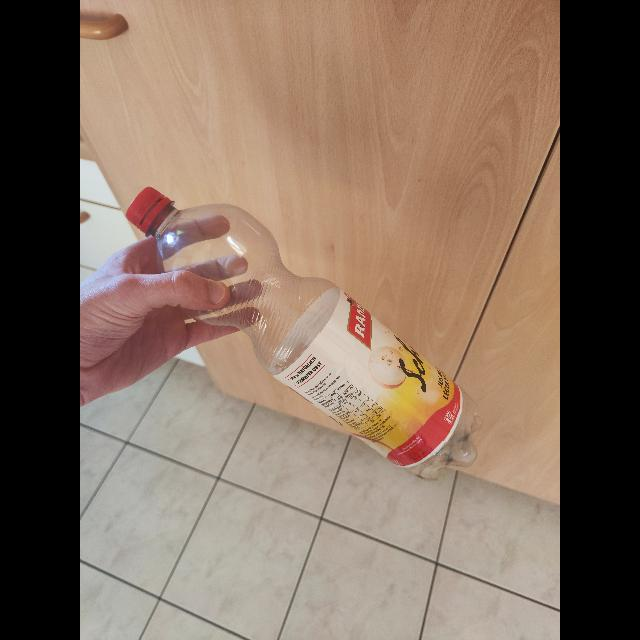Plastic: (124, 185, 478, 479)
